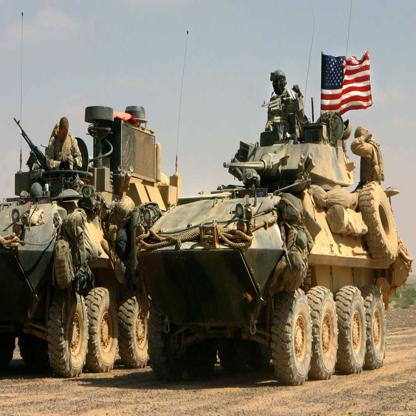Tank: (143, 128, 407, 383), (2, 102, 183, 396)
